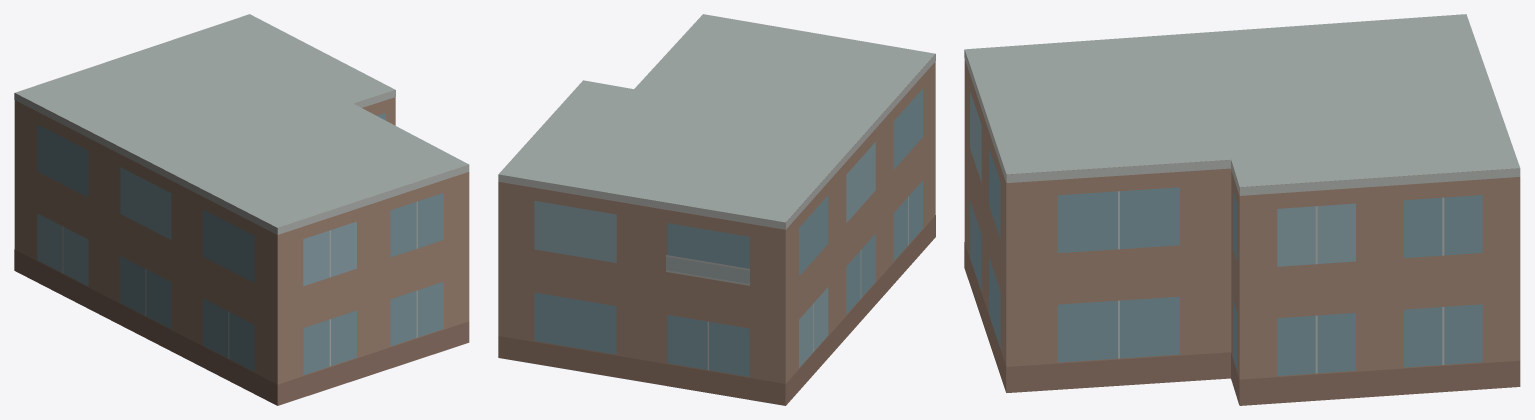
The model's file is survey-upis-32551139.glb.
3 views of the same model, side by side, from view 1: azimuth 30°, elevation 25°; view 2: azimuth 150°, elevation 25°; view 3: azimuth 270°, elevation 25° (orthographic). The views are drawn at different scales.
Visible parts, largest first — view 1: survey-upis-32551139.tmp; view 2: survey-upis-32551139.tmp; view 3: survey-upis-32551139.tmp.
Part boxes in pixels (x1,y1,x2,y2): survey-upis-32551139.tmp: [14, 14, 469, 405]; survey-upis-32551139.tmp: [498, 14, 935, 405]; survey-upis-32551139.tmp: [964, 14, 1520, 405].
Bounding box in the file's own units: 10.37 × 6.1 × 14.06.
